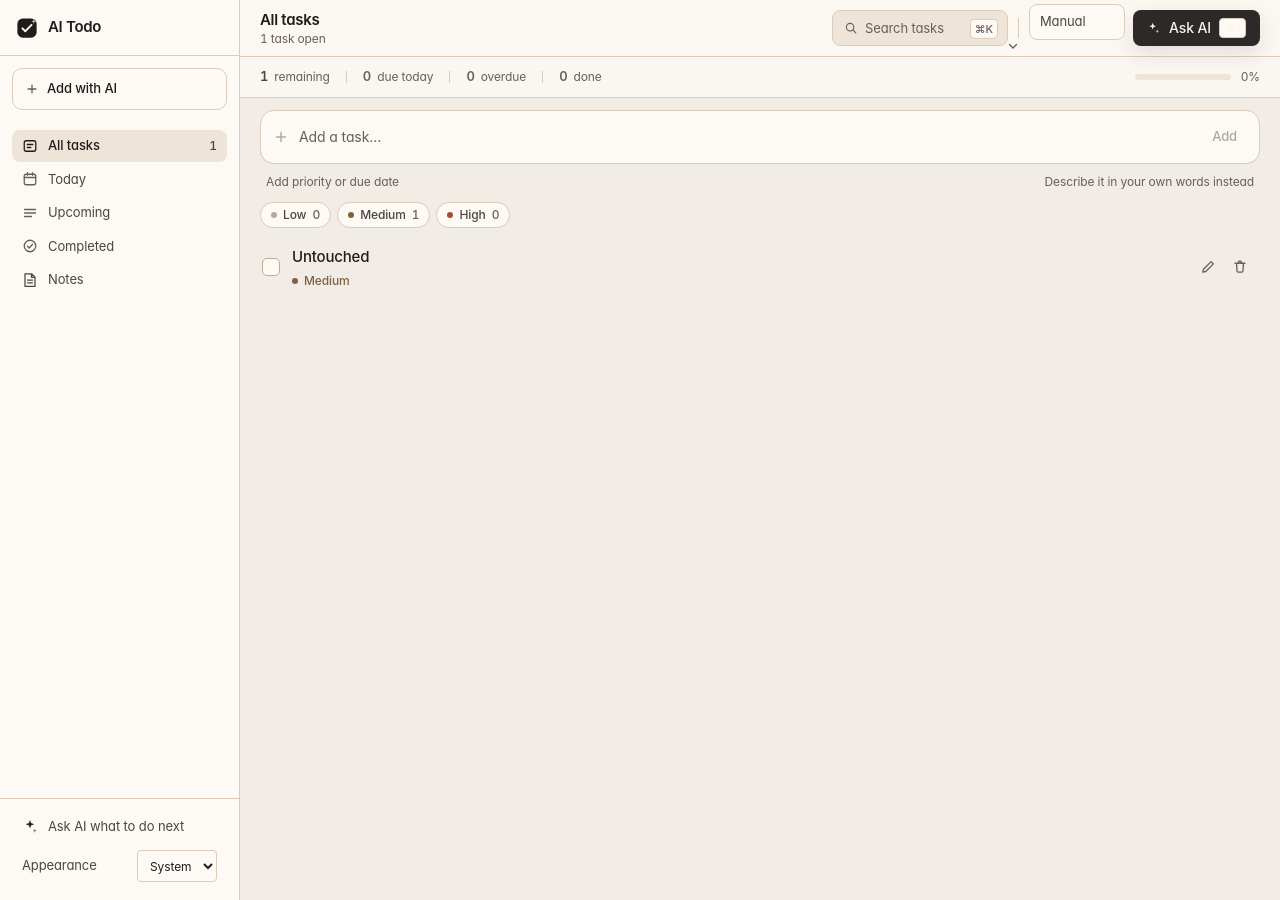
Test case: edit a task › closes on Escape without saving
The width and height of the screenshot is (1280, 900).
Click the button named "Open details for \"Untouched\"" at (331, 256), box [292,246,1180,267]
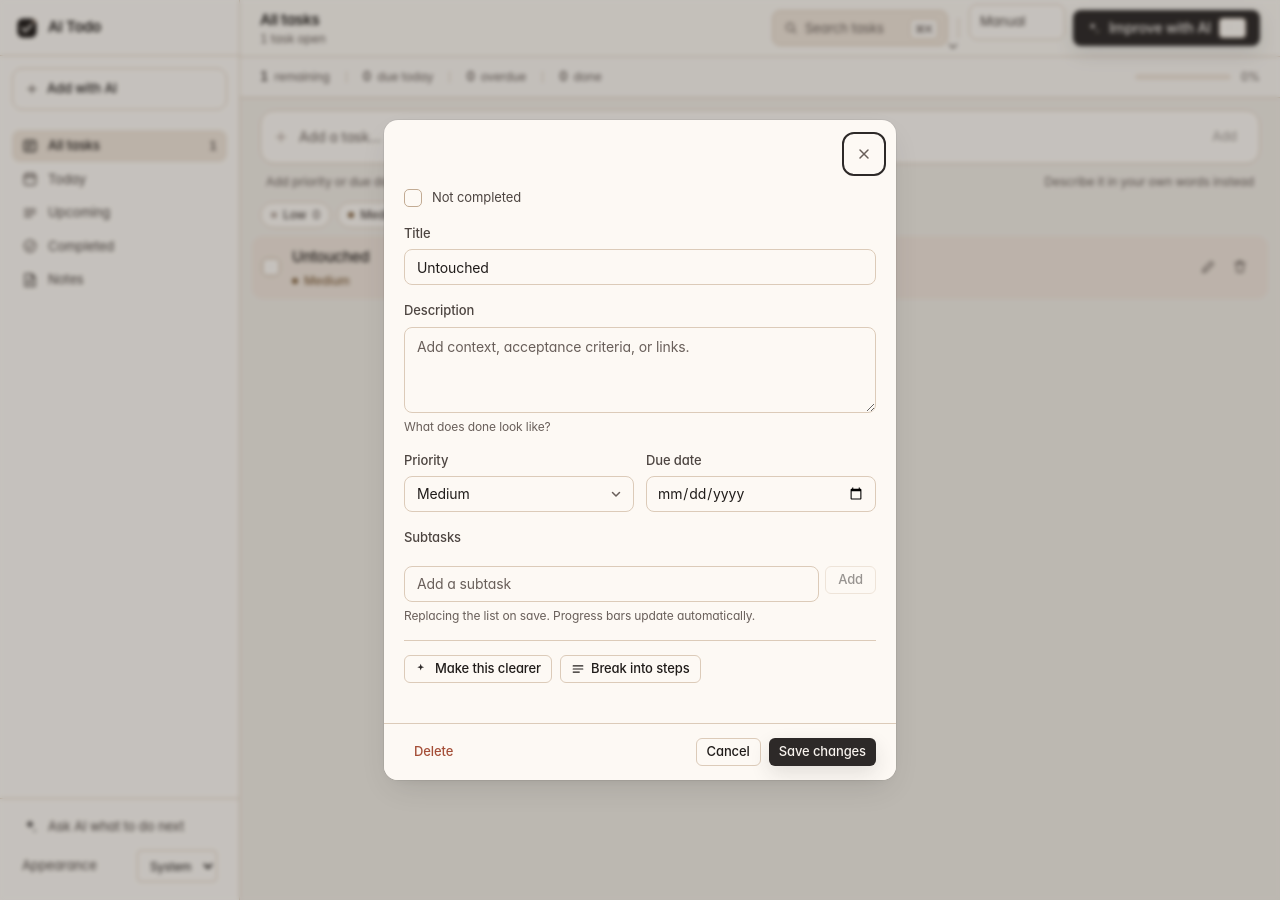
Clear the field labelled "Title" at (640, 267), box [404,249,876,285]
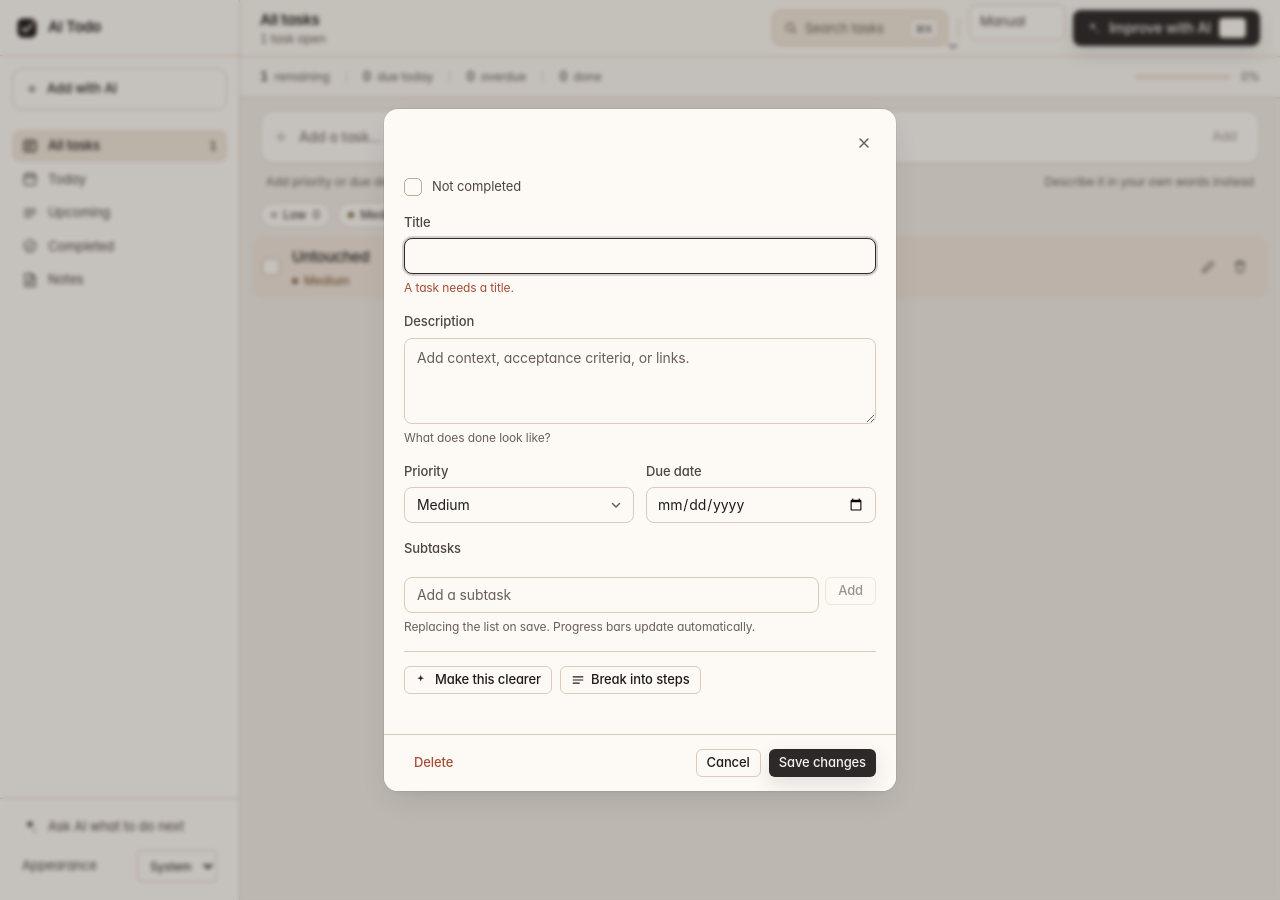
Type "Abandoned" into the field labelled "Title" at (640, 256), box [404,238,876,274]
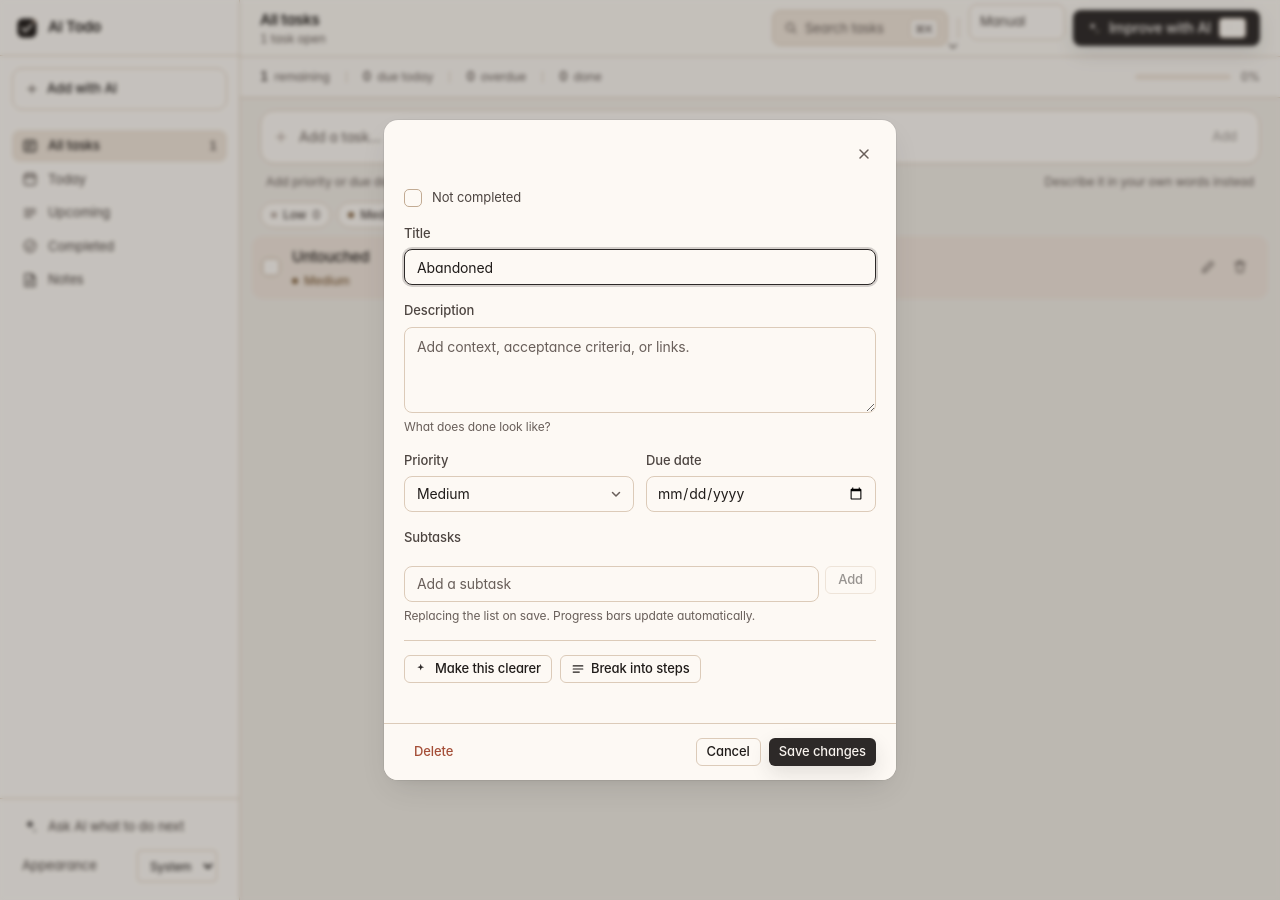
Press Escape
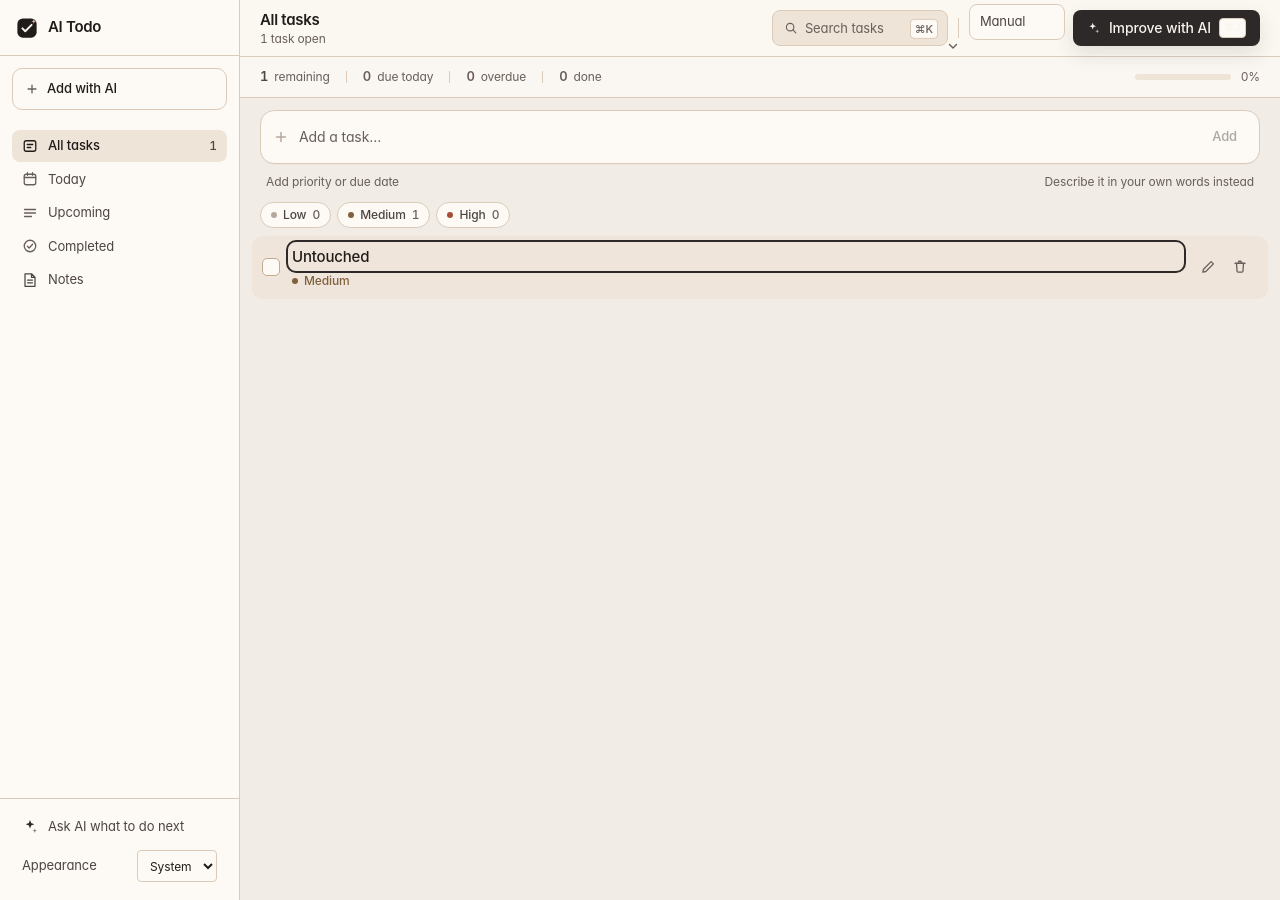
expect the text "Untouched" is shown: met, box [292,246,369,266]
expect the dialog is gone: met
